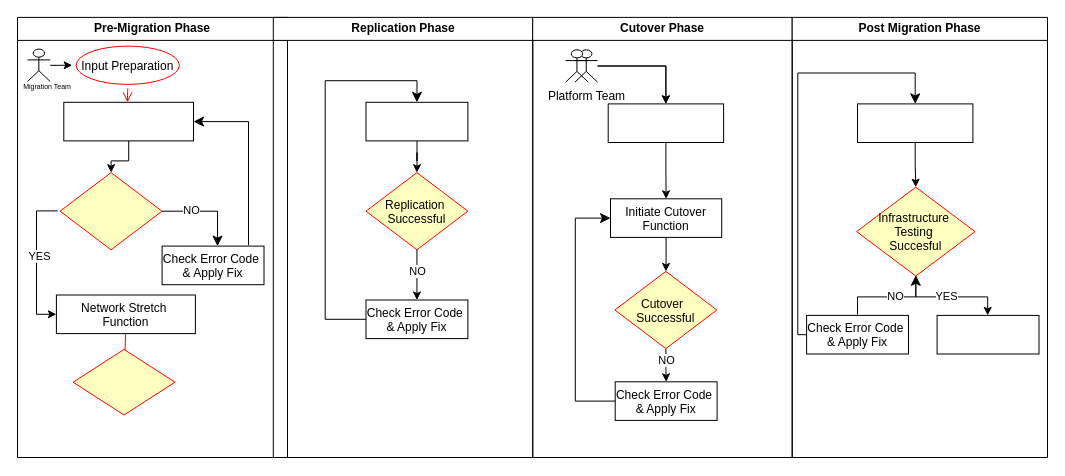
Some shapes in this 1065 by 476 pixel diagram are drawn without their labels. Here are the shapes that lost their labels. From the top down, the centre of each, then its label:
the point at 128,121: Validation Function
the point at 416,121: Initiate Replication Function
the point at 665,122: Pre-Cutover Manual Tasks
the point at 914,122: Post Migration Infrastructure Testing Function
the point at 110,211: Validation Successful
the point at 987,334: Handover to Hypercare
the point at 123,381: N/W Stretch Successful
